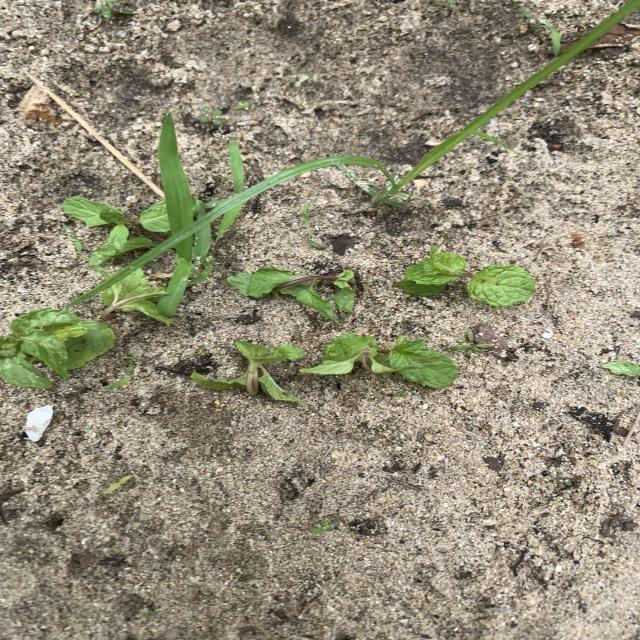crop: (0, 308, 115, 389), (398, 246, 537, 307), (300, 335, 458, 388), (190, 341, 307, 407), (227, 267, 355, 324), (63, 197, 156, 274), (100, 268, 175, 324), (135, 200, 170, 234)
weed: (277, 0, 640, 208), (159, 113, 207, 235), (156, 259, 214, 317), (177, 224, 211, 259)
